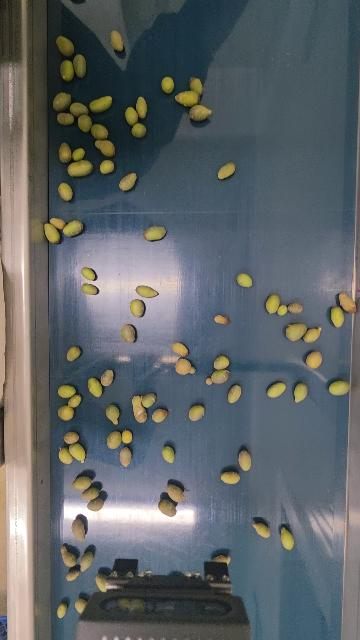Baby Potato: (129, 393, 147, 424), (66, 159, 94, 178), (188, 103, 213, 122), (56, 34, 76, 57), (338, 290, 358, 313), (94, 138, 117, 158), (89, 95, 113, 114), (175, 90, 201, 107), (43, 222, 62, 245), (285, 322, 308, 341), (328, 379, 352, 397), (52, 91, 72, 112), (206, 369, 230, 386), (279, 526, 295, 551), (216, 161, 236, 181), (266, 380, 287, 399), (175, 357, 196, 376), (72, 53, 87, 79), (118, 172, 137, 192), (63, 219, 84, 237), (120, 322, 137, 344), (60, 545, 77, 567), (109, 29, 125, 52), (252, 520, 272, 538), (59, 58, 74, 82), (135, 283, 159, 298), (69, 442, 86, 463), (293, 382, 309, 404), (144, 225, 166, 241), (329, 306, 345, 328), (71, 518, 86, 541), (237, 449, 252, 472), (303, 326, 322, 344), (305, 350, 323, 369), (158, 498, 176, 517), (87, 377, 103, 398), (57, 142, 72, 164), (265, 293, 280, 315), (79, 550, 94, 572), (91, 122, 109, 140), (167, 483, 184, 502), (57, 182, 73, 202), (77, 113, 93, 133), (72, 475, 92, 491), (227, 383, 242, 404), (105, 404, 120, 425), (81, 485, 100, 501), (69, 101, 89, 116), (135, 96, 148, 119), (57, 404, 74, 421), (188, 404, 205, 421), (188, 76, 204, 94), (58, 446, 73, 465), (57, 383, 76, 398), (129, 298, 144, 317), (221, 471, 241, 485), (107, 430, 121, 450), (124, 105, 138, 125), (55, 111, 75, 125), (119, 447, 132, 468), (236, 272, 253, 288), (213, 355, 230, 371), (86, 497, 104, 512), (81, 281, 99, 296), (160, 76, 175, 94), (95, 573, 108, 593), (80, 266, 96, 282), (172, 341, 188, 357), (63, 430, 80, 445), (66, 345, 81, 362), (98, 159, 115, 174), (162, 445, 175, 464), (100, 369, 114, 386), (71, 147, 86, 162), (131, 123, 146, 138), (152, 408, 168, 422), (142, 392, 156, 408), (68, 393, 82, 408), (50, 216, 66, 229), (74, 598, 87, 613), (65, 568, 80, 581), (288, 301, 303, 313), (56, 603, 68, 618), (214, 314, 230, 325), (276, 303, 288, 317), (122, 429, 133, 444)
